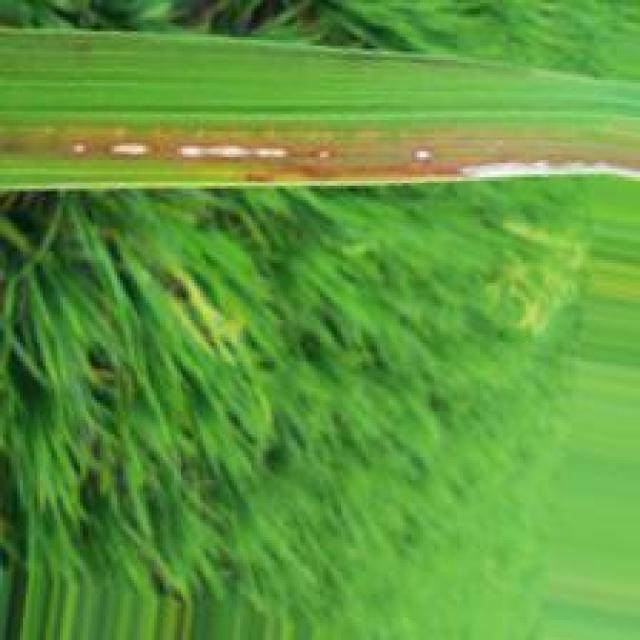Bacterial_Leaf_Blight: (0, 118, 640, 186)
